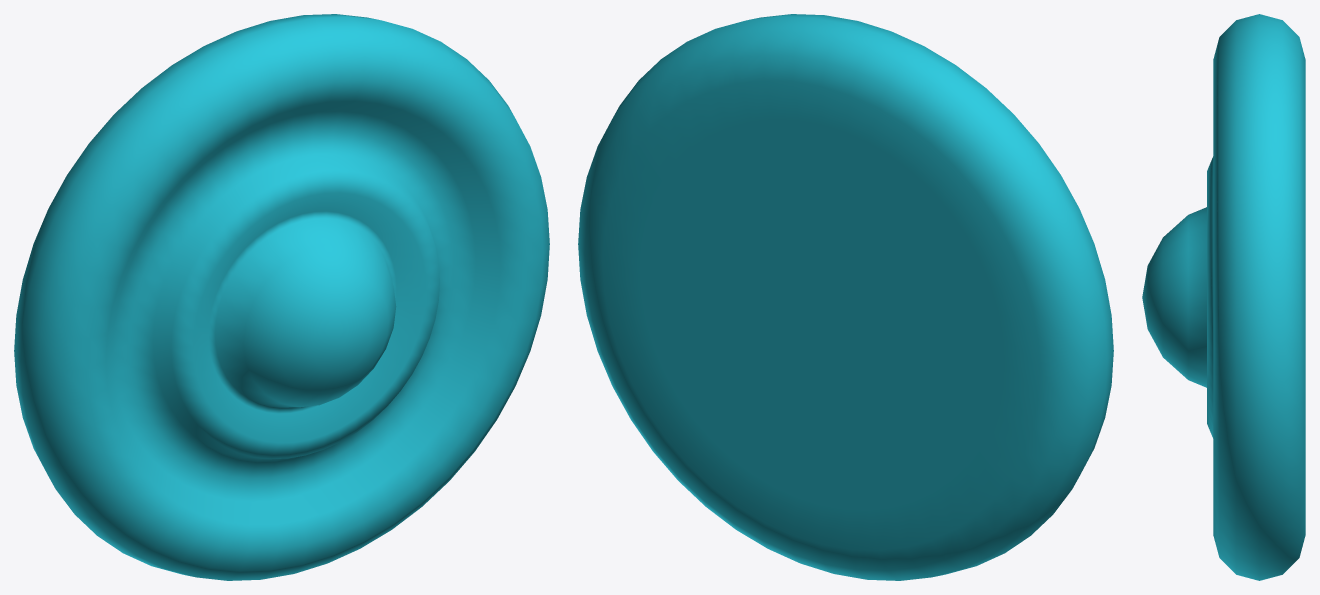
File: Holo_Shield.glb
3 views of the same model, side by side, from view 1: azimuth 30°, elevation 25°; view 2: azimuth 150°, elevation 25°; view 3: azimuth 270°, elevation 25° (orthographic). The views are drawn at different scales.
Parts seen in each view (by area): view 1: Holo_Shield; view 2: Holo_Shield; view 3: Holo_Shield.
Boxes of the visible parts, x1,y1,x2,y2 form: Holo_Shield: (14,14,549,580); Holo_Shield: (578,14,1113,580); Holo_Shield: (1142,14,1305,580).
Size of the model in its own units: 0.92 by 0.92 by 0.265.
